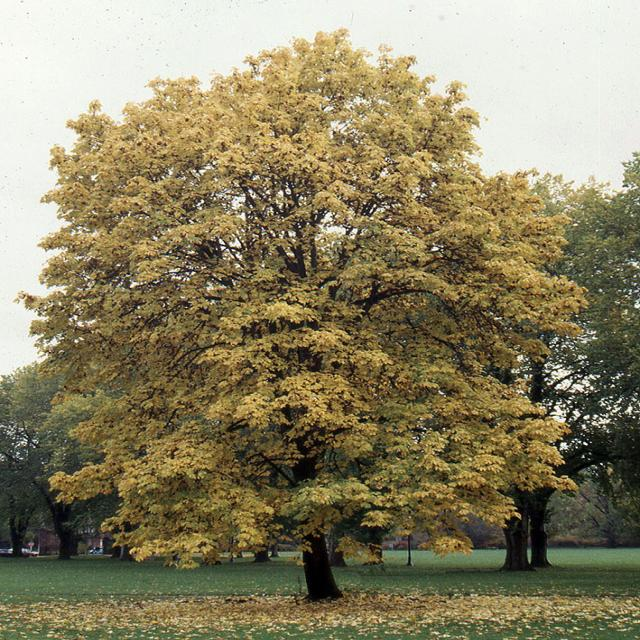Acer macrophyllum: (28, 28, 574, 610)
